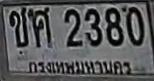0: (125, 6, 143, 45)
2: (64, 8, 81, 46)
3: (84, 8, 101, 45)
8: (105, 7, 122, 45)
A10: (9, 7, 28, 46)
A38: (28, 5, 51, 46)
BKK: (25, 56, 133, 76)
